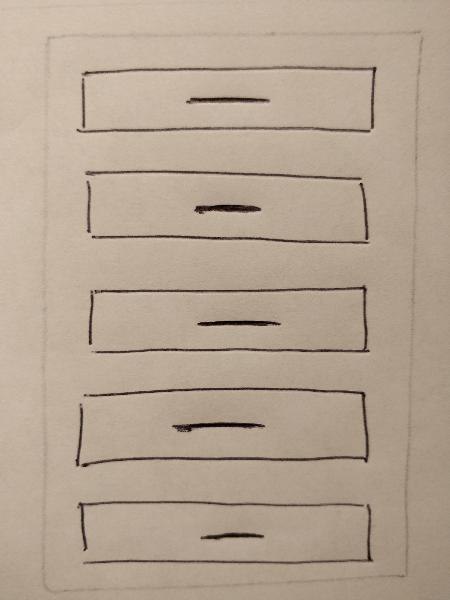button: (70, 383, 381, 470), (71, 488, 382, 575), (75, 59, 381, 140), (74, 167, 380, 248), (76, 279, 382, 360)
